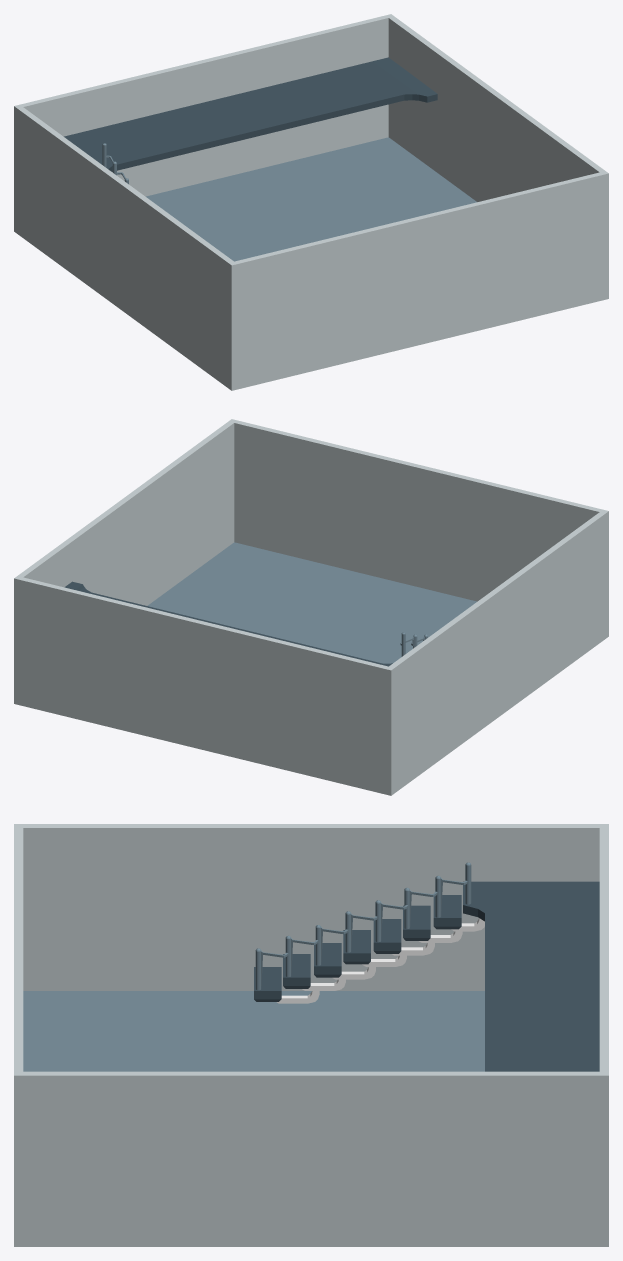
File: scene_qU2BFJEt2x.glb
The picture shows the model from 3 angles, top to bottom: view 1: azimuth 30°, elevation 25°; view 2: azimuth 150°, elevation 25°; view 3: azimuth 270°, elevation 25°; orthographic projection. The views are drawn at different scales.
Visible parts, largest first — view 1: group1193238391, group1055185915, group1944227595, group1115390400, group280885113, group1574848784; view 2: group1944227595, group1193238391, group1055185915, group1115390400, group280885113, group1574848784; view 3: group280885113, group1055185915, group1115390400, group1574848784, group1944227595, group1193238391.
Part boxes in pixels (left/top/right/bottom): group1193238391: left=228, top=171, right=608, bottom=390; group1055185915: left=17, top=107, right=233, bottom=387; group1944227595: left=14, top=14, right=394, bottom=233; group1115390400: left=146, top=137, right=476, bottom=261; group280885113: left=388, top=16, right=604, bottom=201; group1574848784: left=64, top=57, right=437, bottom=184; group1944227595: left=14, top=576, right=394, bottom=795; group1193238391: left=228, top=419, right=608, bottom=638; group1055185915: left=389, top=512, right=605, bottom=792; group1115390400: left=147, top=542, right=476, bottom=663; group280885113: left=18, top=421, right=234, bottom=605; group1574848784: left=64, top=581, right=427, bottom=666; group280885113: left=23, top=1071, right=599, bottom=1246; group1055185915: left=23, top=824, right=599, bottom=990; group1115390400: left=23, top=991, right=484, bottom=1071; group1574848784: left=254, top=862, right=599, bottom=1071; group1944227595: left=599, top=824, right=608, bottom=1246; group1193238391: left=14, top=824, right=23, bottom=1246.
Bounding box in the file's own units: 5.16 × 1.64 × 5.16.
